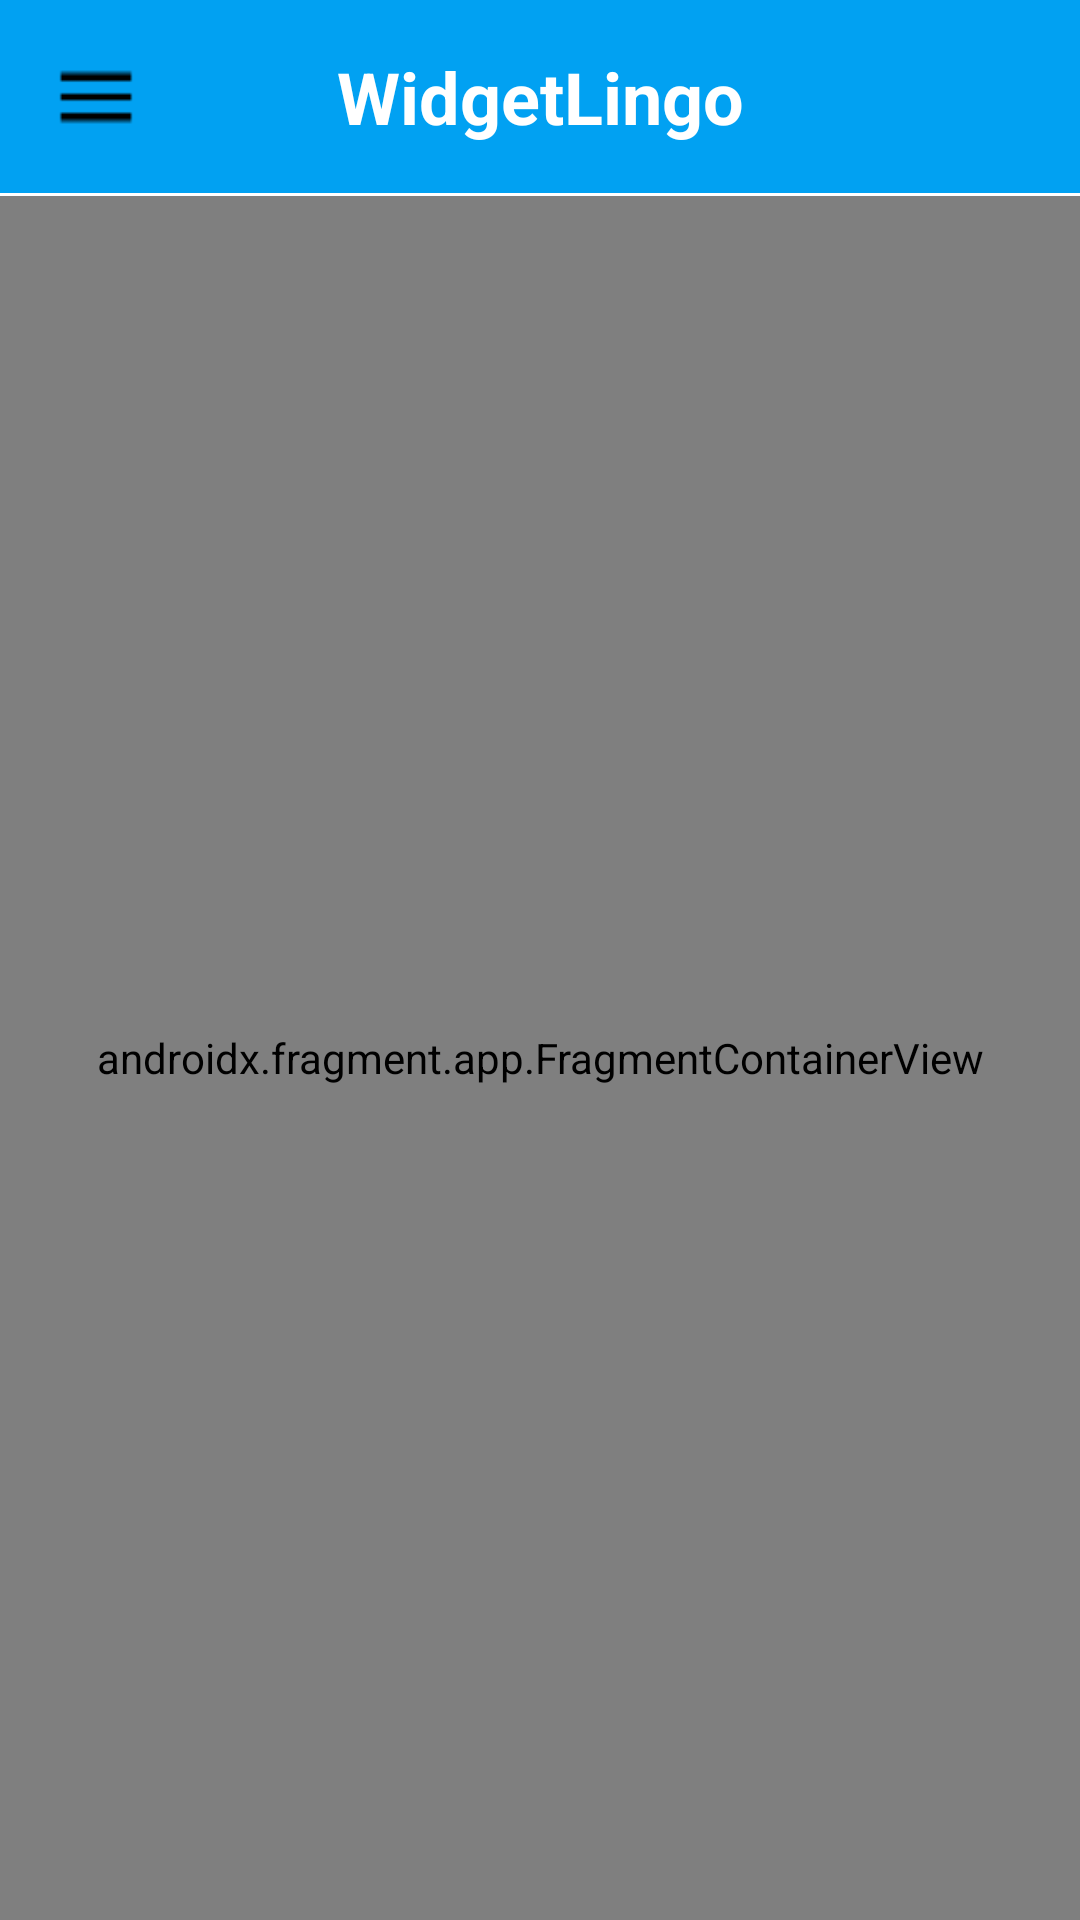

Screen size 1080w x 1920h. Icon name, then its box in pixels as (x1, y1, x2, y2):
Menu: (60, 70, 132, 124)
